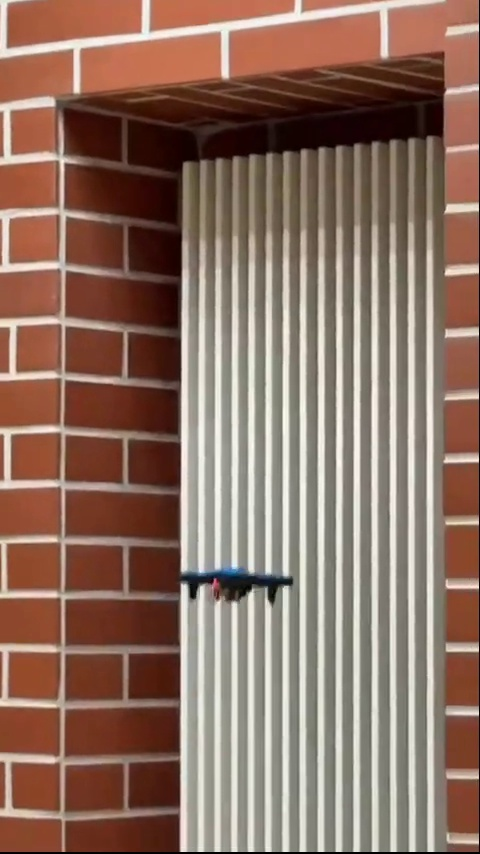drone: (178, 566, 297, 606)
